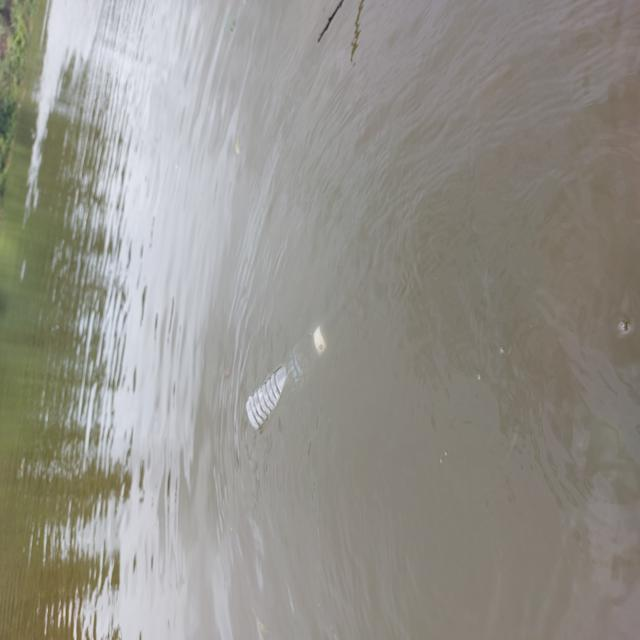waterbottle: (230, 326, 347, 442)
